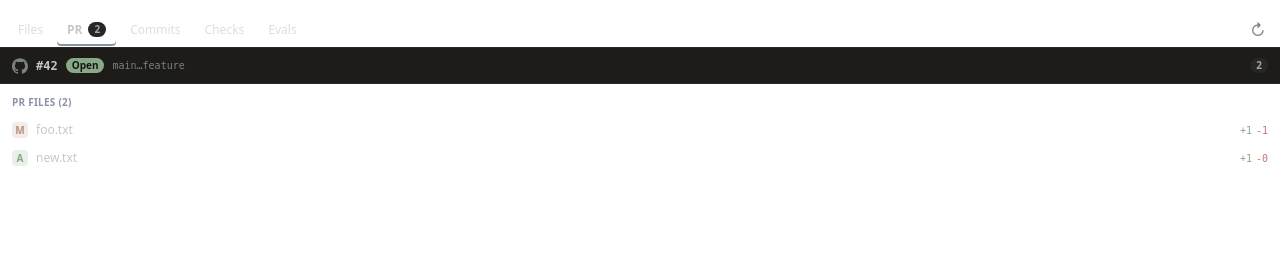
Test: SidebarDiffPanel tabs › clicking Files loads and renders worktree rows, clicking PR goes back
The width and height of the screenshot is (1280, 254).
Click the tab with test id "sidebar-tab-files" at (30, 30), box x1=8 y1=14 x2=53 y2=46
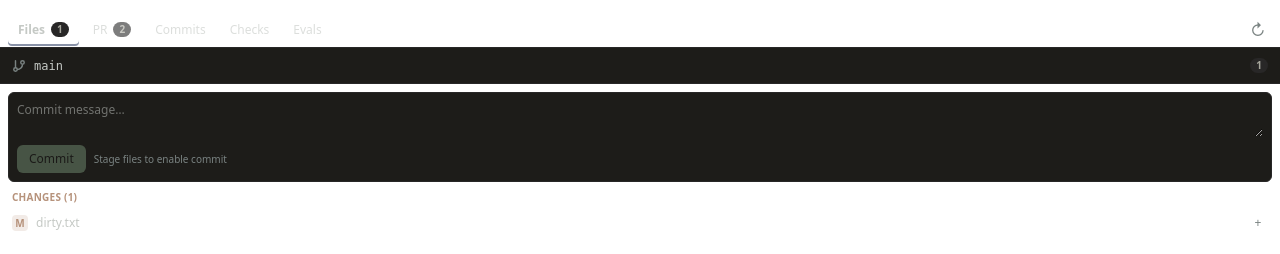
Now the button with test id "sidebar-diff-file-unstaged-dirty.txt" is shown, box x1=0 y1=209 x2=1279 y2=237
Click the tab with test id "sidebar-tab-pr" at (112, 30), box x1=83 y1=14 x2=141 y2=46
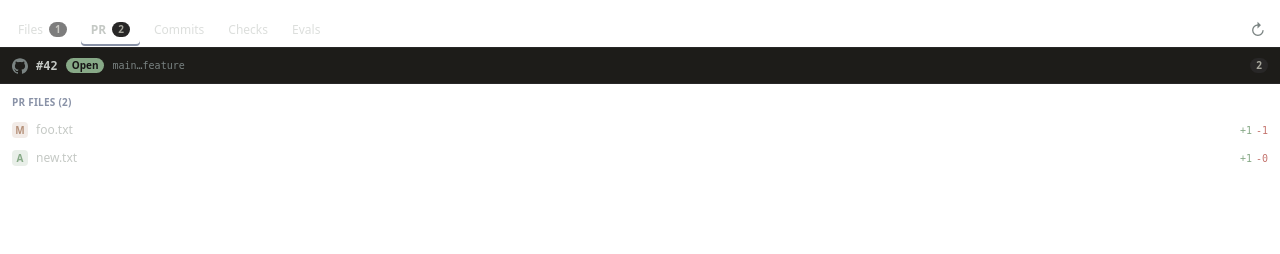
Now the button with test id "sidebar-pr-file-foo.txt" is shown, box x1=0 y1=116 x2=1279 y2=144
